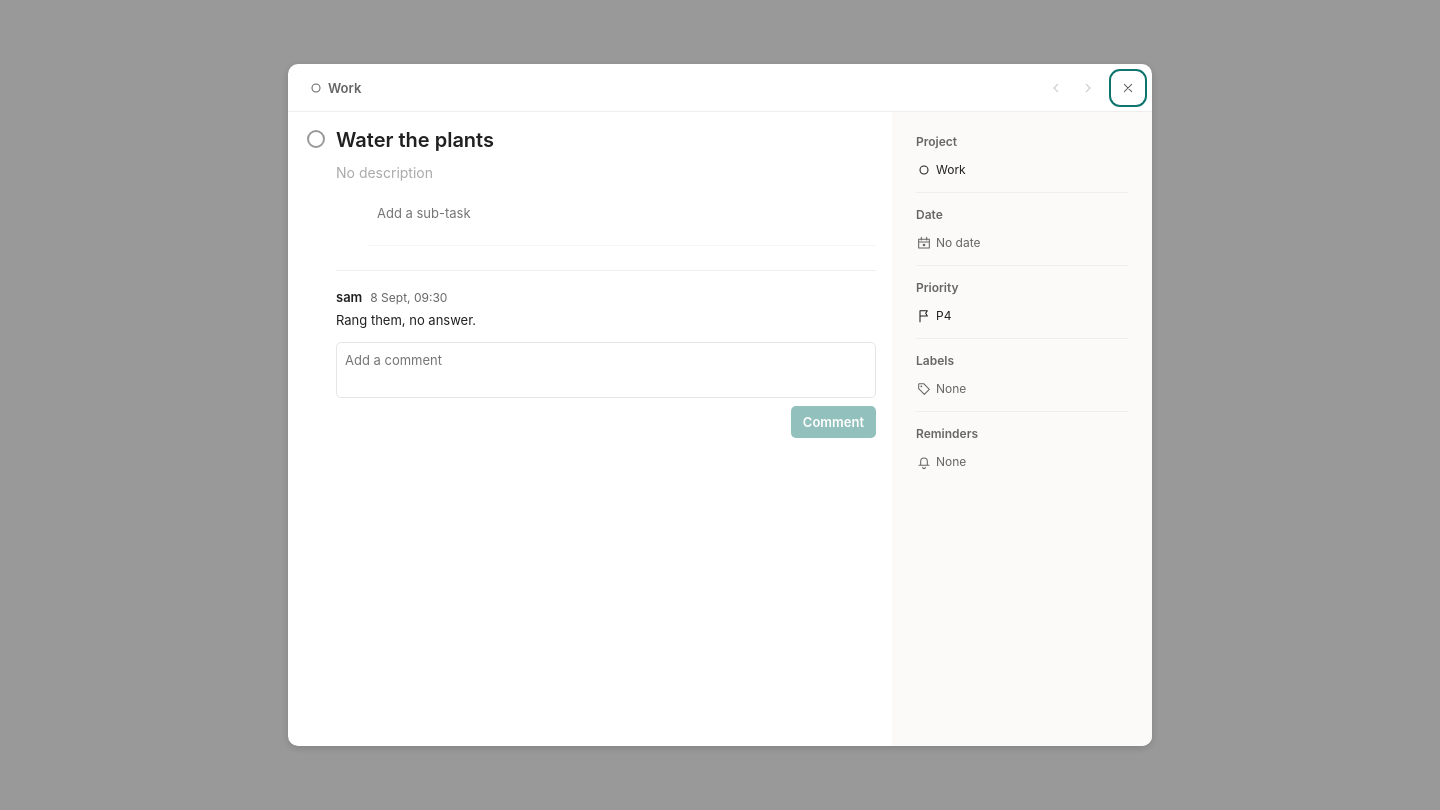
Scenario: the sidebar pickers › gives Escape to the open picker, not to the dialog behind it
Click the button named "Priority: change": coordinates (1018, 316) [912,302,1124,330]
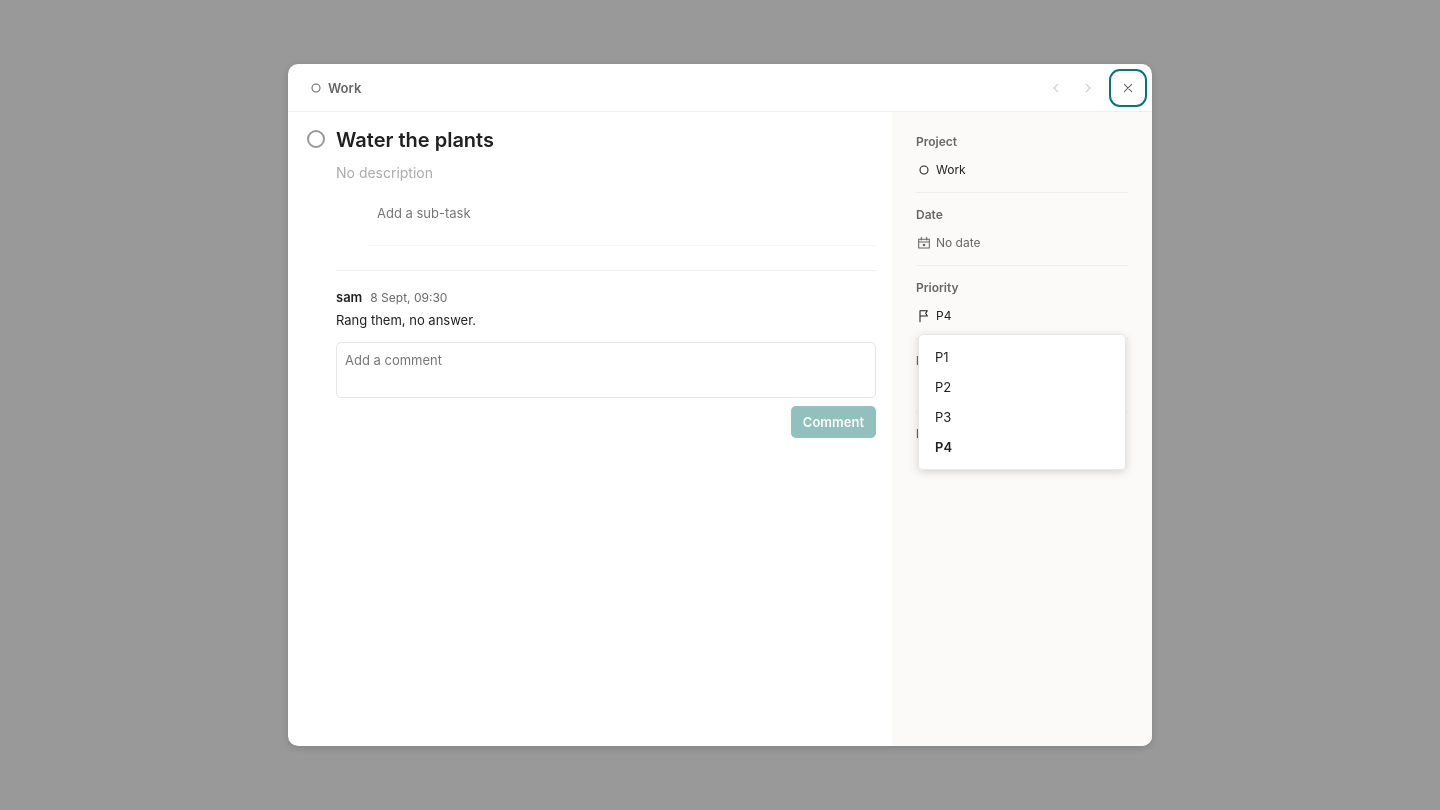
Press Escape in the button "P1", box [927,343,1117,371]
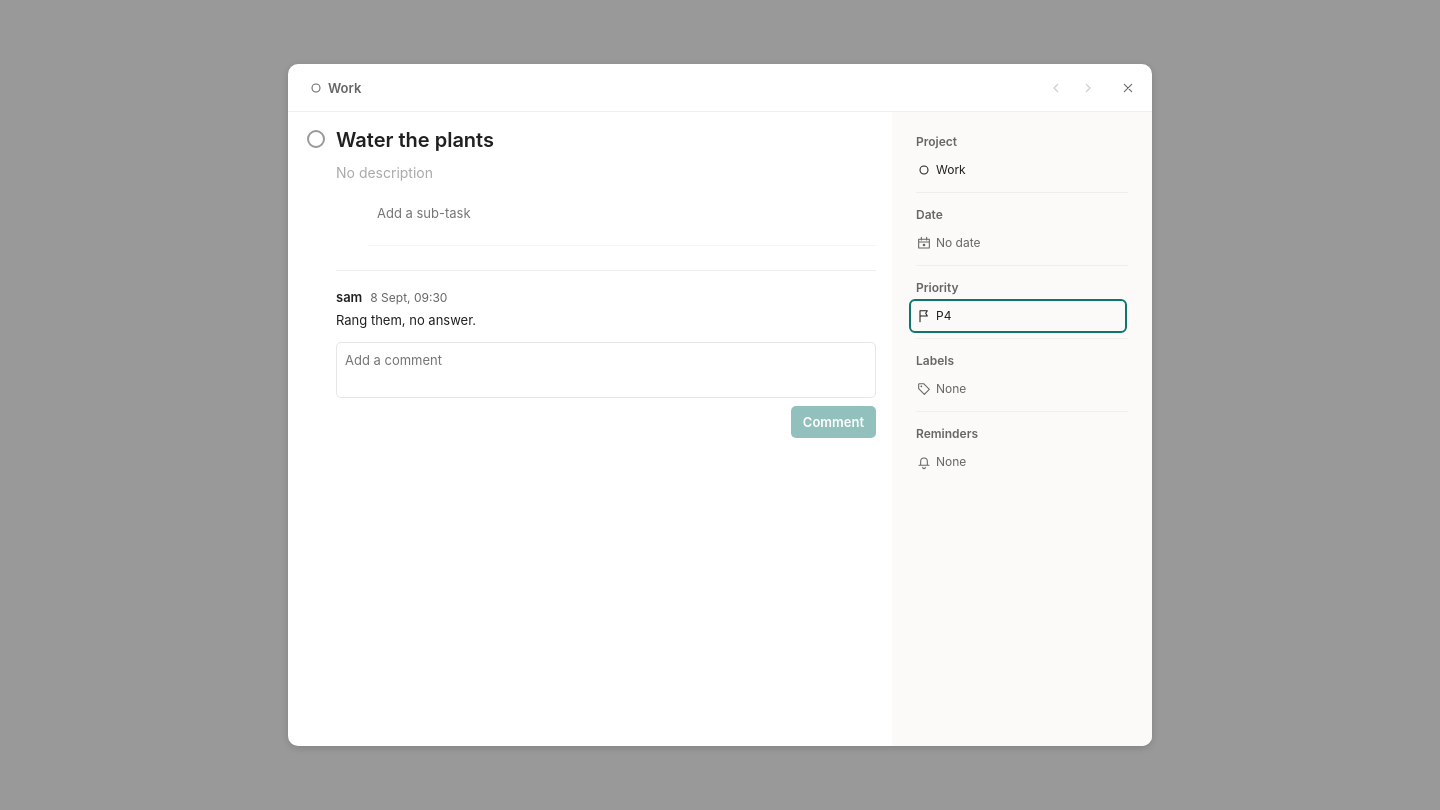
Expected: the button "P1" is gone
